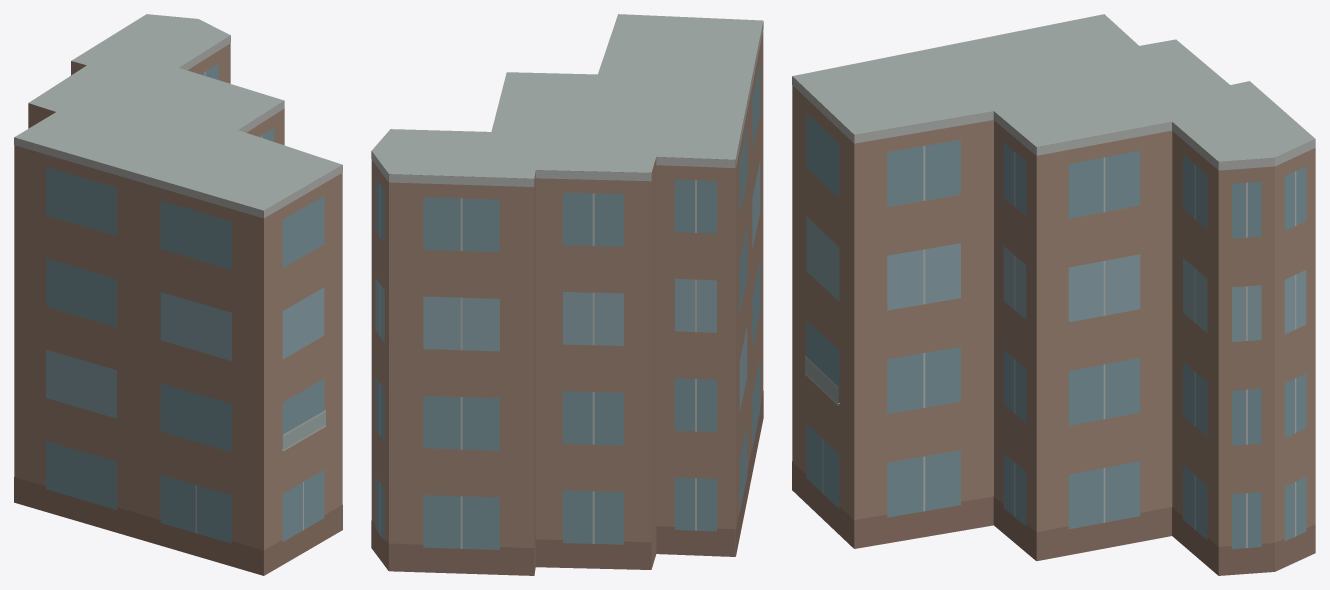
The model's file is survey-upis-32975524.glb.
3 views of the same model, side by side, from view 1: azimuth 30°, elevation 25°; view 2: azimuth 150°, elevation 25°; view 3: azimuth 270°, elevation 25° (orthographic). The views are drawn at different scales.
Parts seen in each view (by area): view 1: survey-upis-32975524.tmp; view 2: survey-upis-32975524.tmp; view 3: survey-upis-32975524.tmp.
Part boxes in pixels (<box>): survey-upis-32975524.tmp: <box>14,14,342,575</box>; survey-upis-32975524.tmp: <box>371,14,763,575</box>; survey-upis-32975524.tmp: <box>792,14,1315,575</box>.
Bounding box in the file's own units: 8.81 × 11.5 × 13.18.
